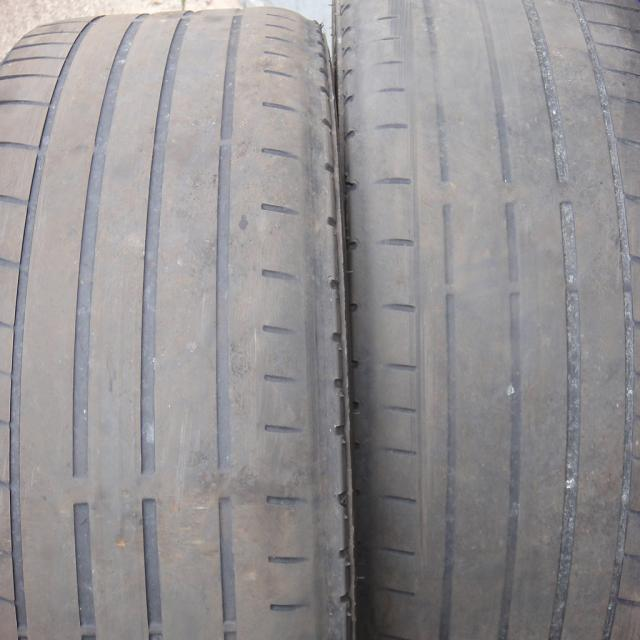Flat spots: (0, 81, 639, 639)
